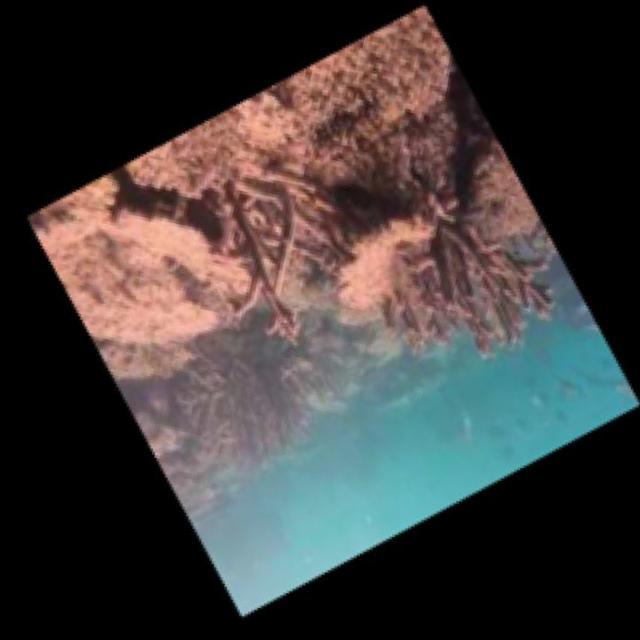Dead Coral: (51, 30, 615, 561), (180, 97, 591, 411)
